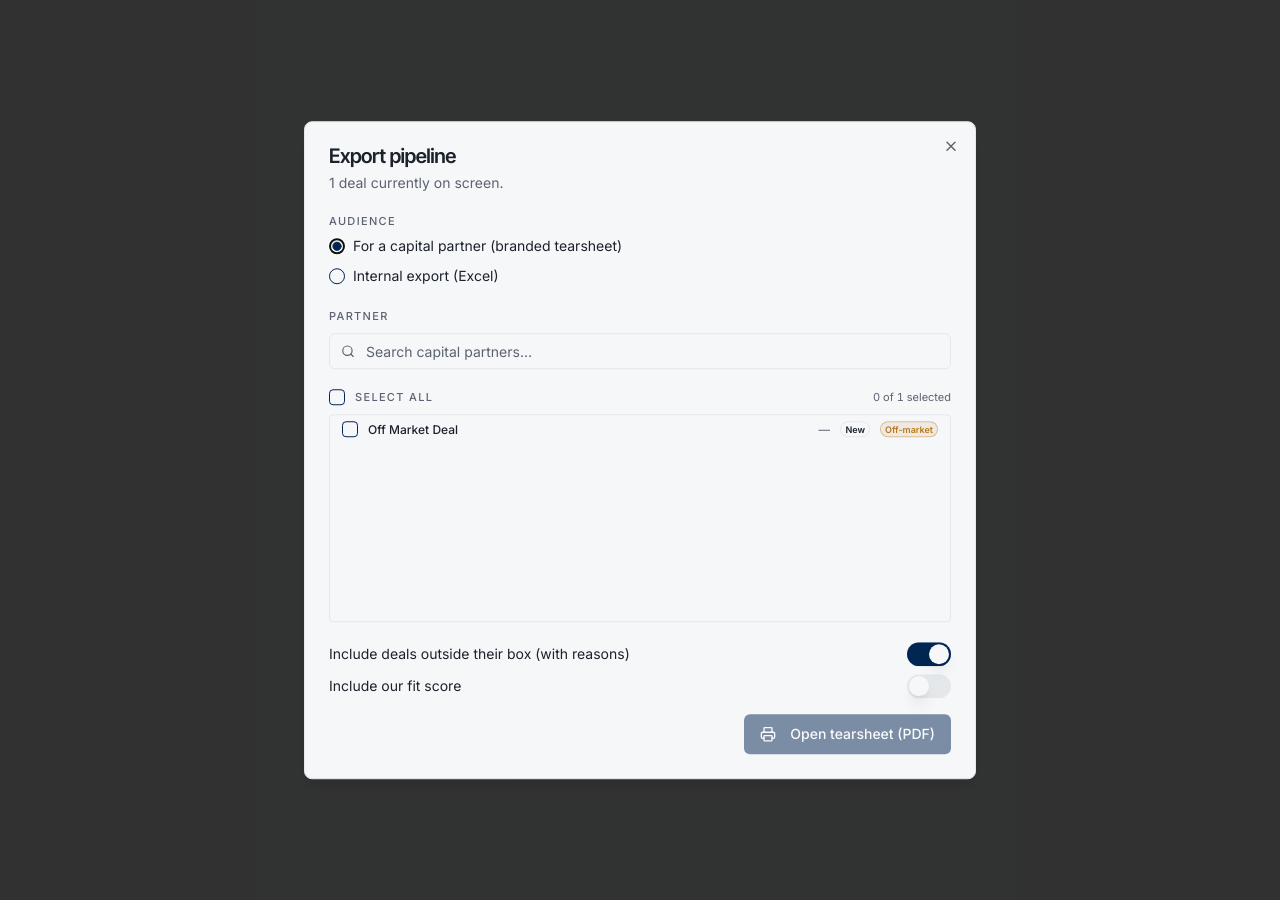
Test: ExportPipelineDialog select-all › shows amber warning when a single off-market deal is checked by hand
Click the 2nd checkbox at (350, 429), box [342,421,358,437]
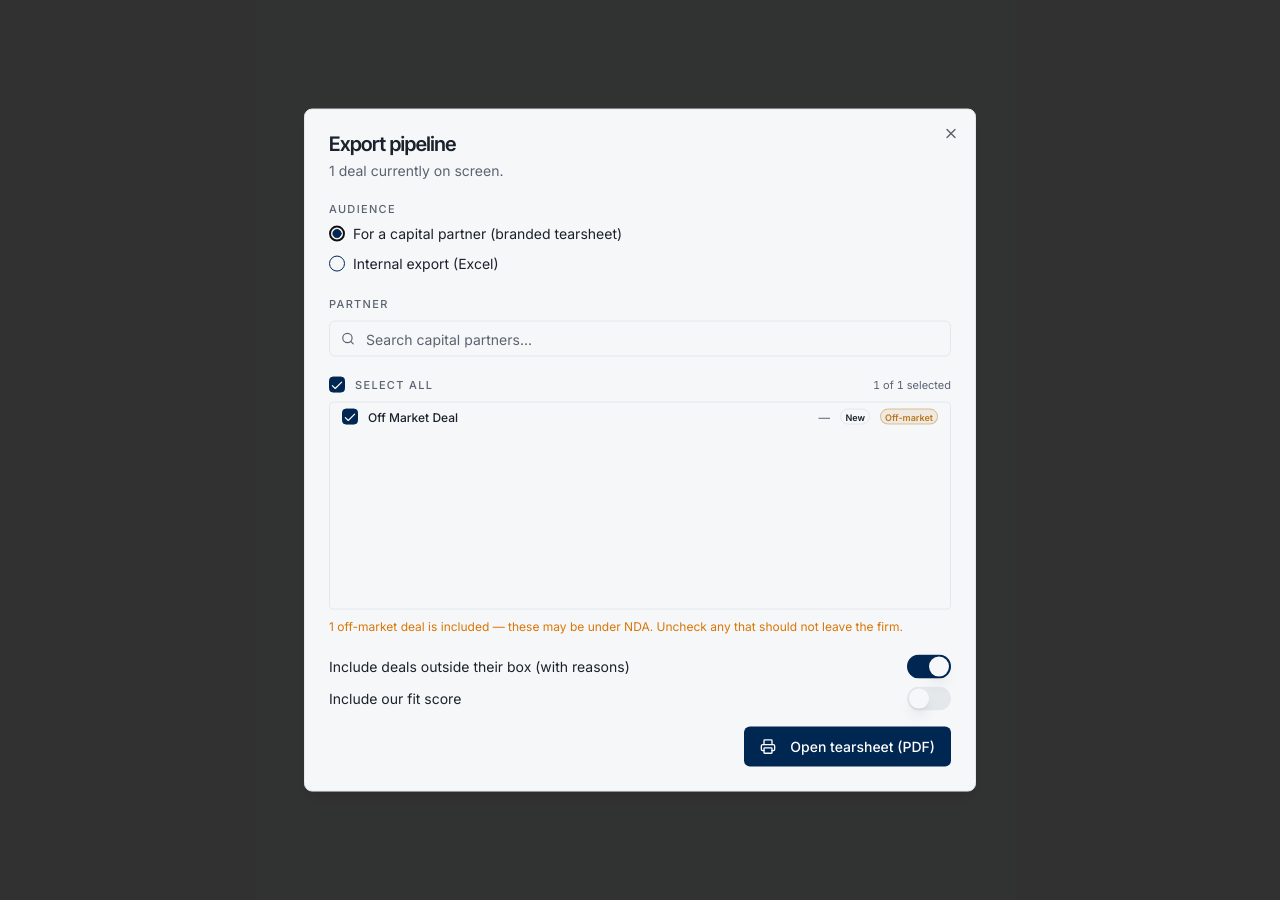
Expected: the text "1 off-market deal is included" is shown, [329,617,951,634]
